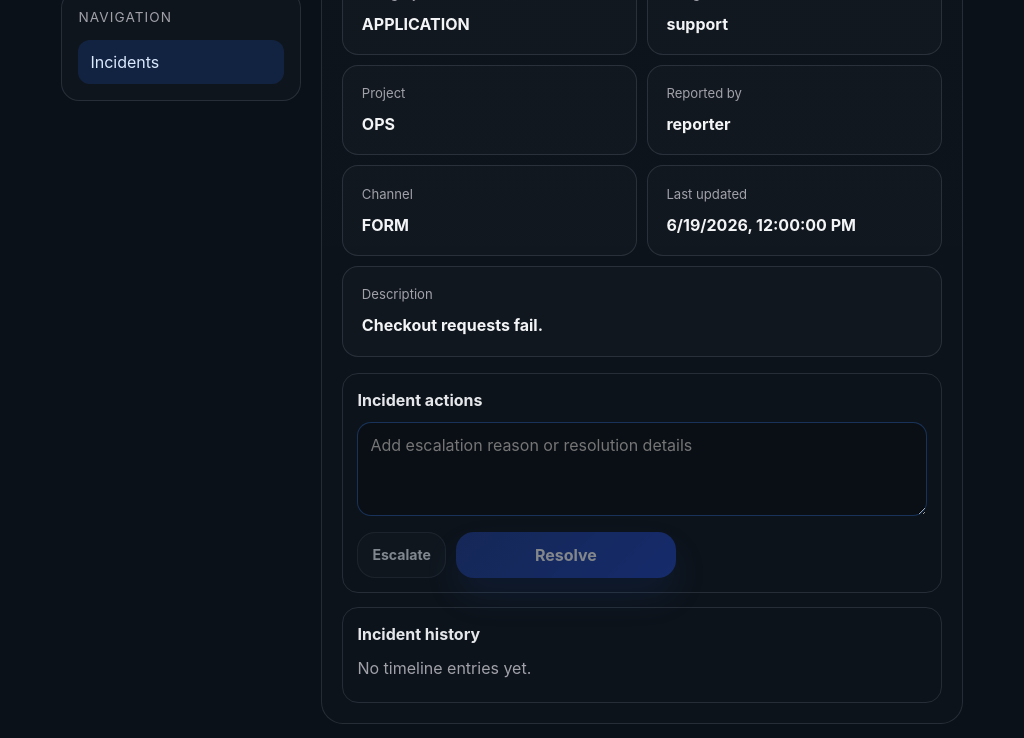
Test case: role-aware incident actions › allows the assigned agent to resolve an incident
(page scrolled)
Type "Restarted checkout" into the text box with placeholder "Add escalation reason or resolution details" at (642, 469), box [357,422,926,516]
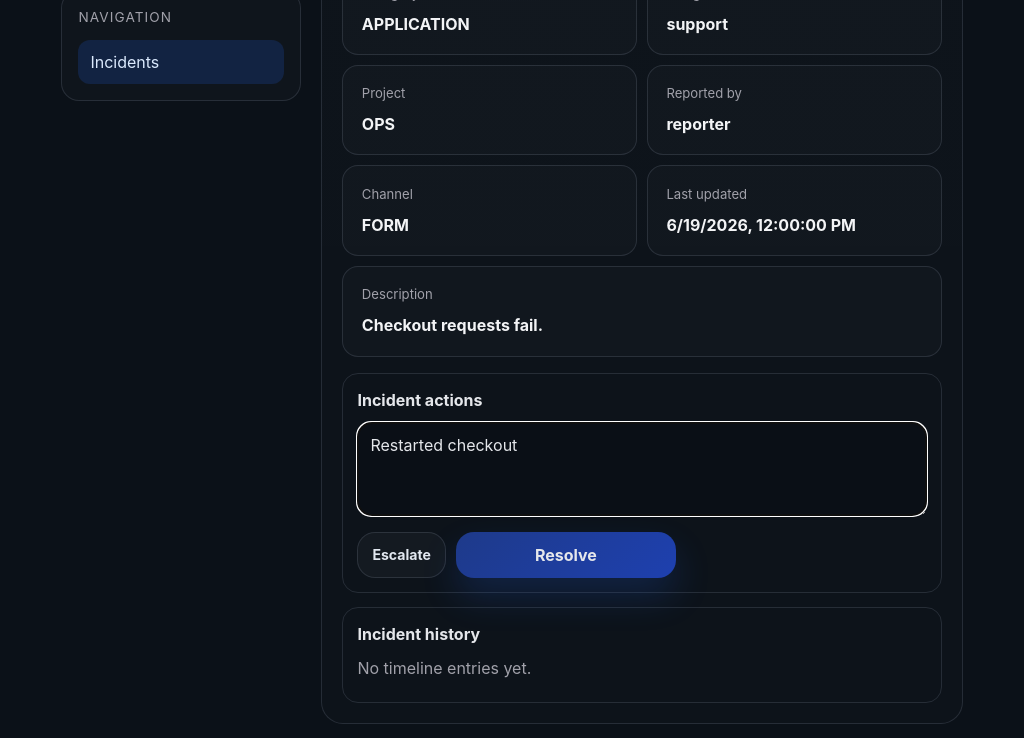
Click the button "Resolve" at (566, 555), box [456,532,676,578]
(page scrolled)
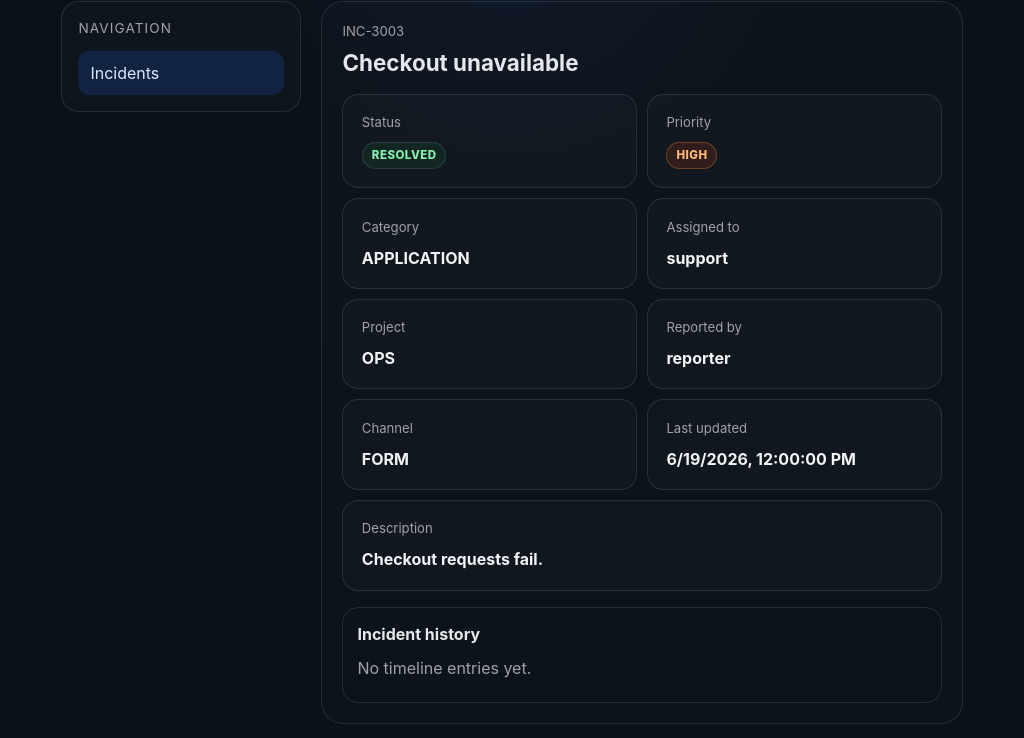
Now the text "RESOLVED" is shown, box [362,142,446,169]
